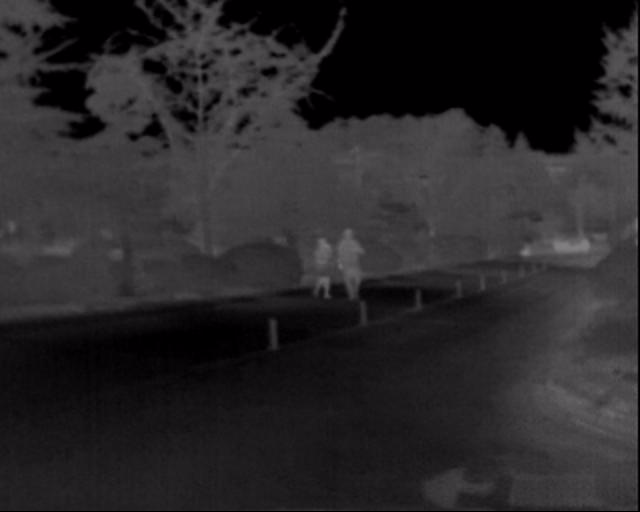person: (346, 228, 376, 302), (315, 230, 343, 301)
